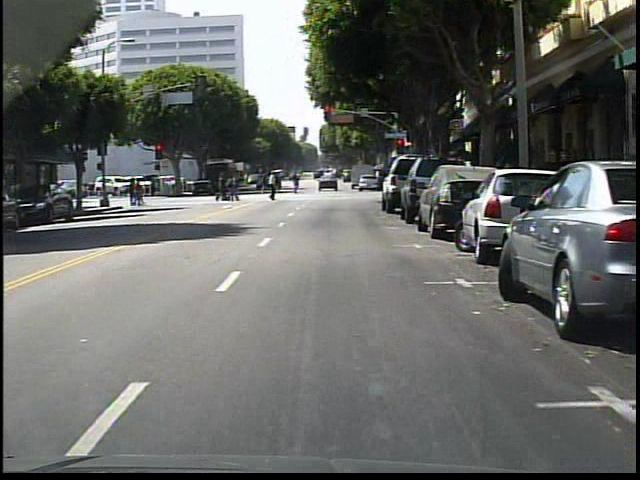person: (262, 168, 284, 205), (287, 169, 305, 198)
